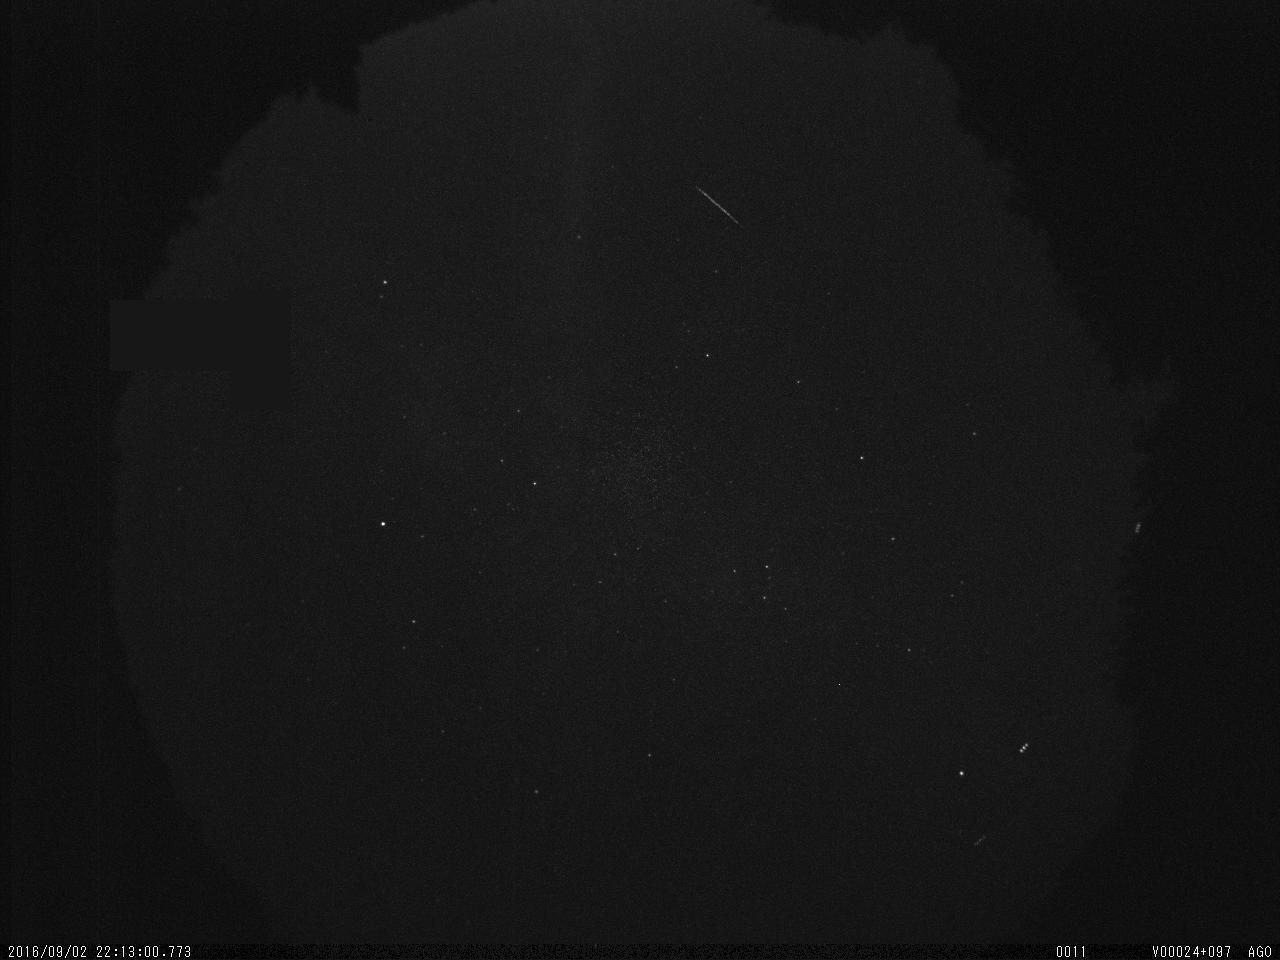Meteor: (694, 184, 741, 228)
